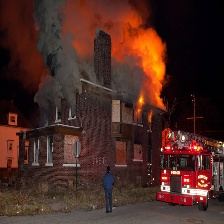fire: (135, 94, 147, 108)
smoke: (1, 1, 166, 97)
